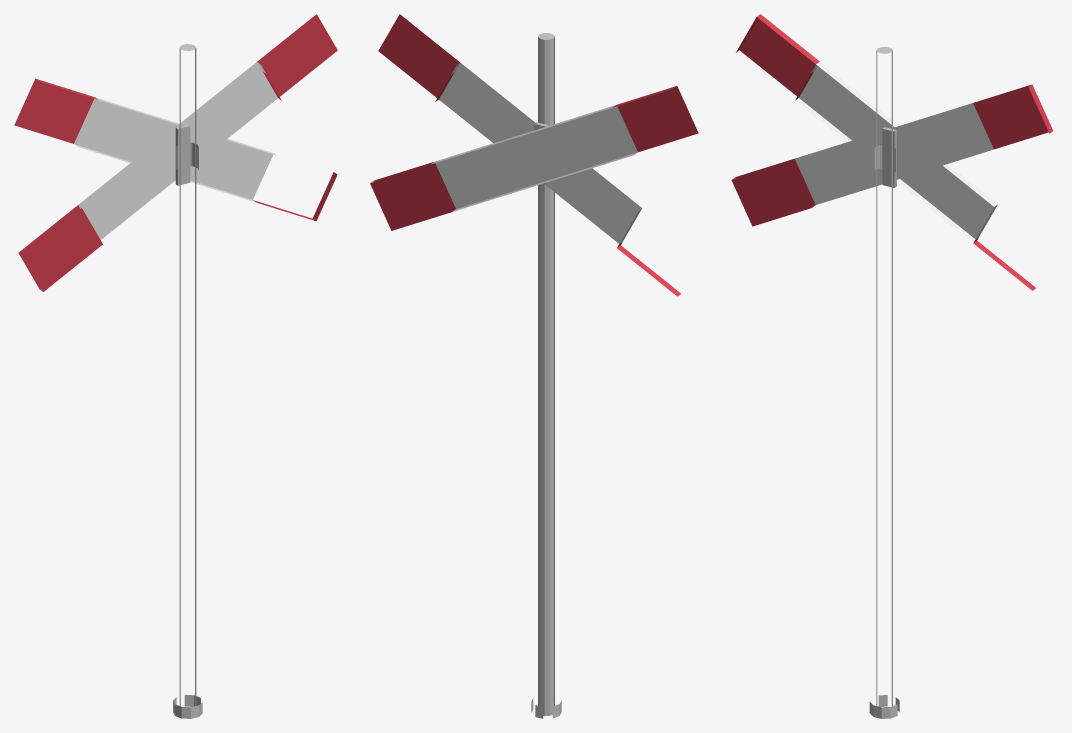
Rendered from sign_rail_cross.glb.
The picture shows the model from 3 angles, left to right: view 1: azimuth 30°, elevation 25°; view 2: azimuth 150°, elevation 25°; view 3: azimuth 330°, elevation 25°; orthographic projection. The views are drawn at different scales.
Visible parts, largest first — view 1: sign_rail_cross; view 2: sign_rail_cross; view 3: sign_rail_cross.
Part boxes in pixels (bbox=[...]): sign_rail_cross: bbox=[14, 14, 337, 718]; sign_rail_cross: bbox=[370, 14, 698, 718]; sign_rail_cross: bbox=[731, 14, 1053, 718].
Bounding box in the file's own units: 1.42 × 2.82 × 0.1618.
